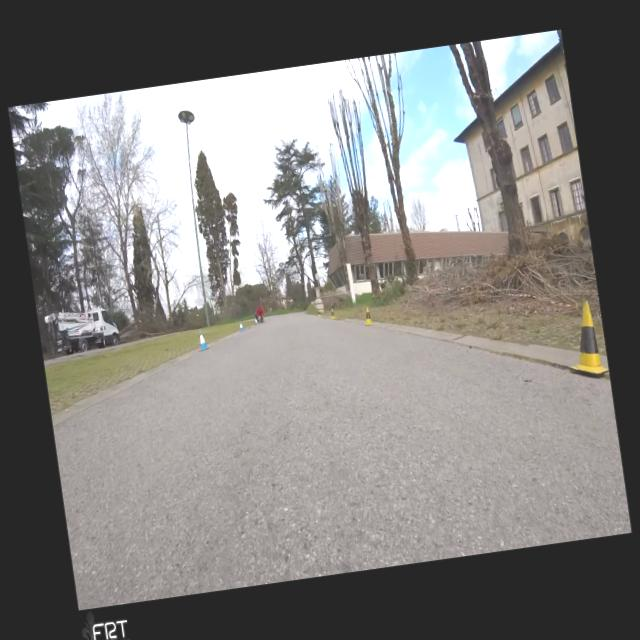blue_cone: (196, 330, 210, 350), (238, 321, 244, 332), (256, 318, 258, 324)
yellow_cone: (560, 297, 610, 378), (362, 306, 374, 326), (330, 308, 334, 318), (318, 310, 321, 316)
